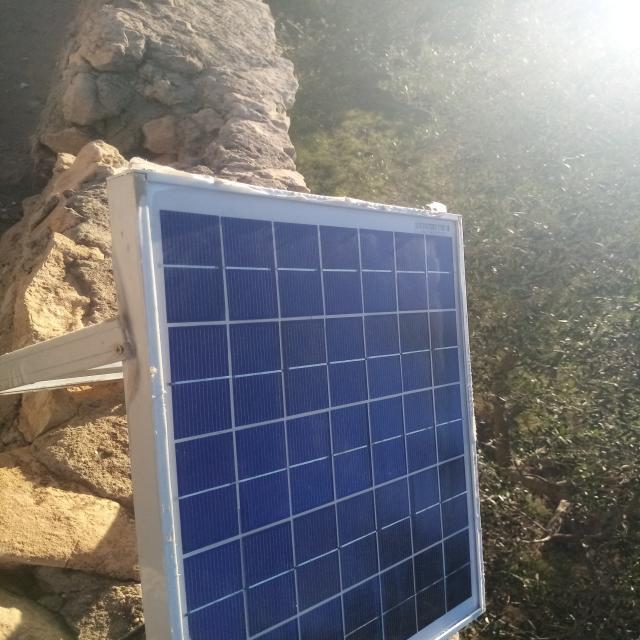no faulty: (144, 177, 488, 640)
